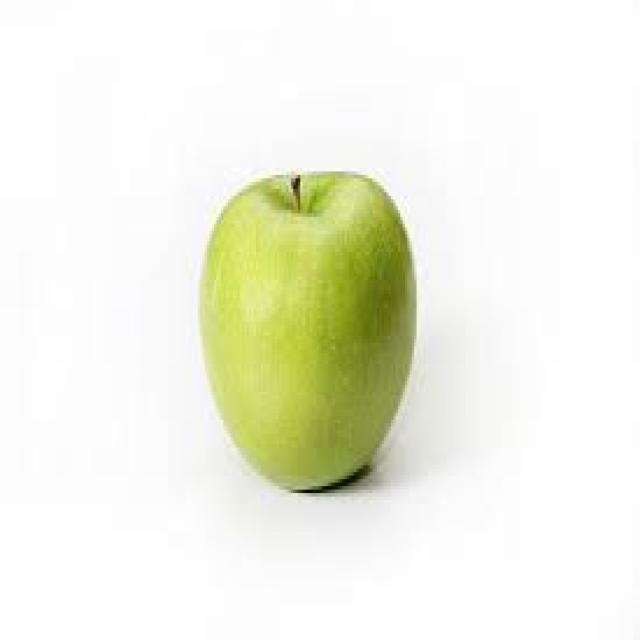apple: (192, 151, 426, 496)
